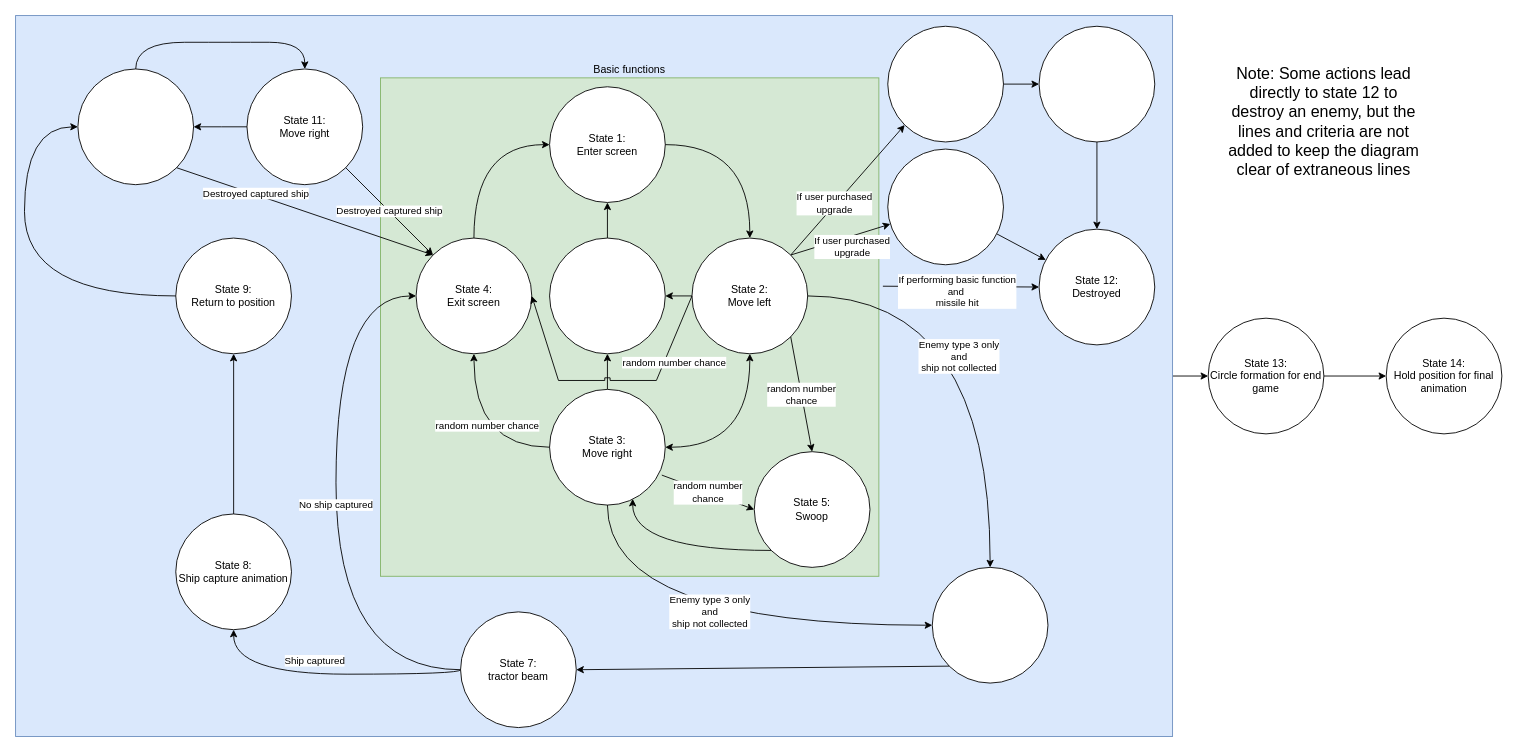
This 1517x752 diagram has some shape labels left out. The shapes that lost their labels are listed below. From the top down, each one's centre as x and y in pixels, then its label:
At (x=945, y=83): "State 15: RKO entrance".
At (x=1096, y=83): "State 16: RKO exit".
At (x=135, y=126): "State 10: Move left".
At (x=945, y=206): "State 17: Cena".
At (x=607, y=295): "State 18: Pincer".
At (x=989, y=624): "State 6: Move to capture player ship".
